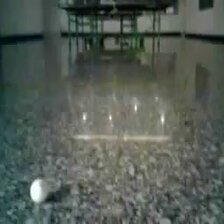w: (30, 178, 49, 203)
